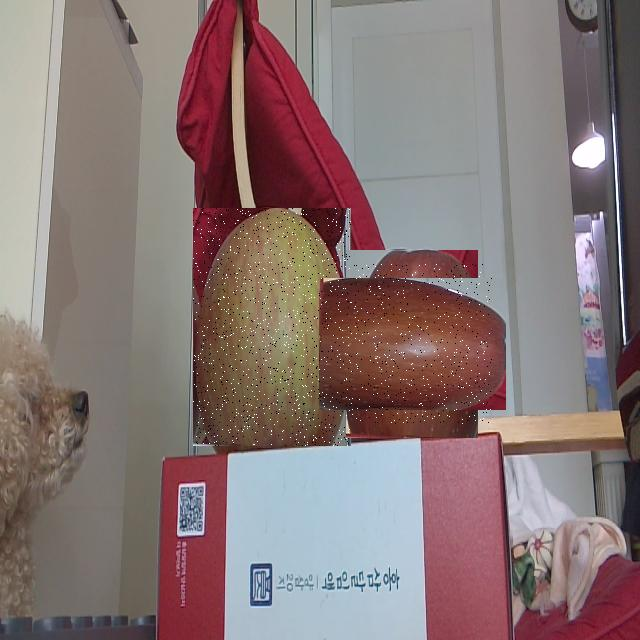apple: (193, 208, 351, 446), (332, 264, 492, 424)
